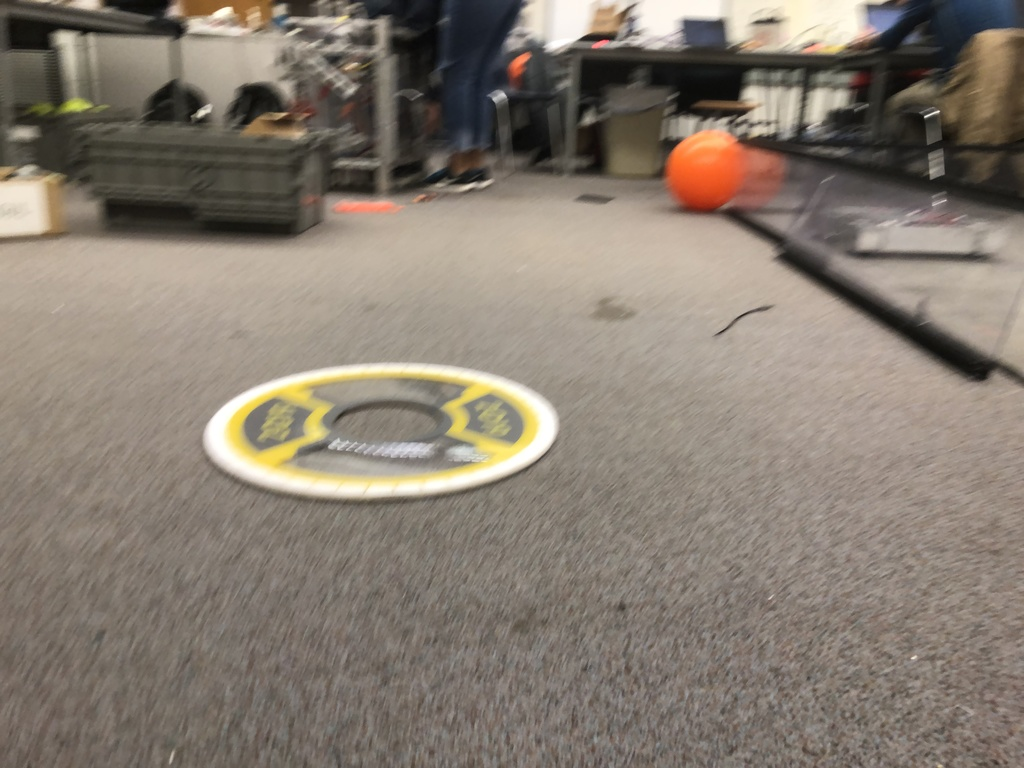hatch_panel: (187, 350, 585, 509)
